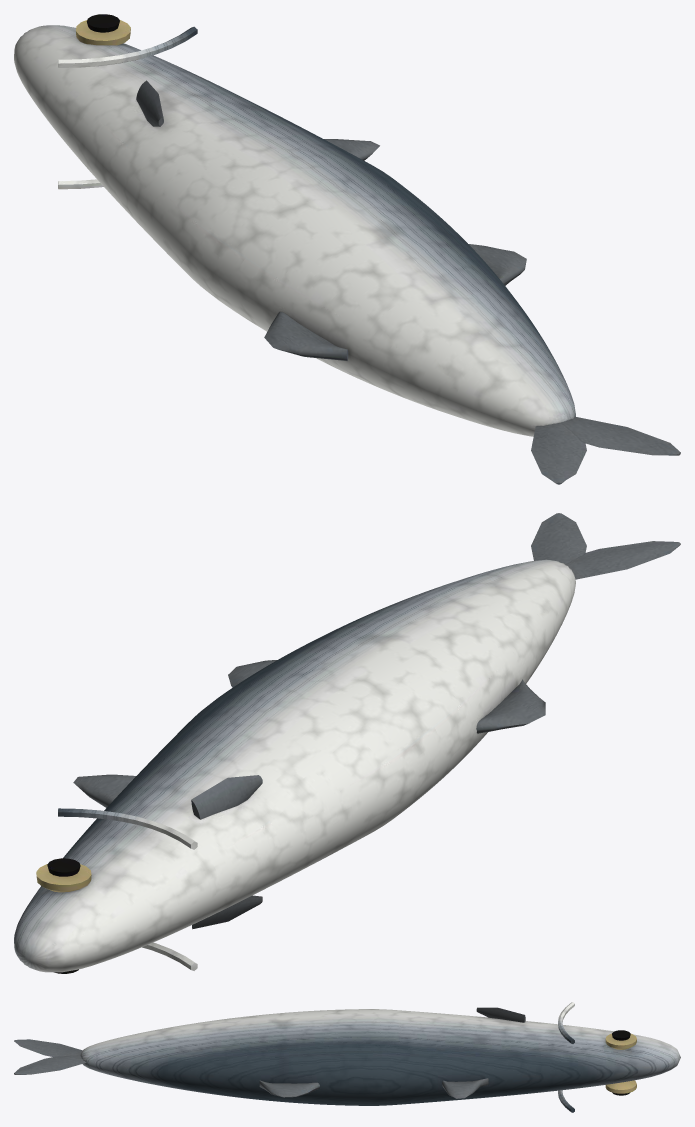
File: fish_kefal.glb
The picture shows the model from 3 angles, top to bottom: view 1: azimuth 30°, elevation 25°; view 2: azimuth 150°, elevation 25°; view 3: azimuth 270°, elevation 25°; orthographic projection. The views are drawn at different scales.
Parts seen in each view (by area): view 1: fish_kefal; view 2: fish_kefal; view 3: fish_kefal.
Boxes of the visible parts, left/top/right/bottom form: fish_kefal: left=14, top=14, right=680, bottom=484; fish_kefal: left=14, top=513, right=680, bottom=973; fish_kefal: left=14, top=1002, right=680, bottom=1112.
Bounding box in the file's own units: 0.131 × 0.0624 × 0.4647.
1 material, 1 textured.
